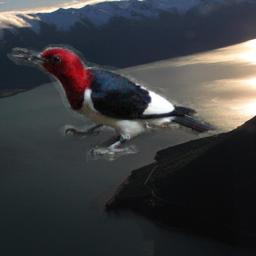Woodpecker: (7, 42, 222, 162)
